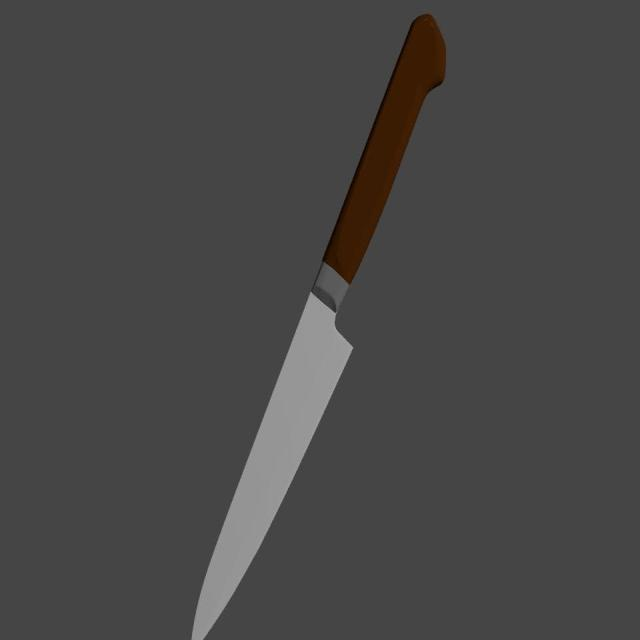knife: (322, 15, 446, 286)
